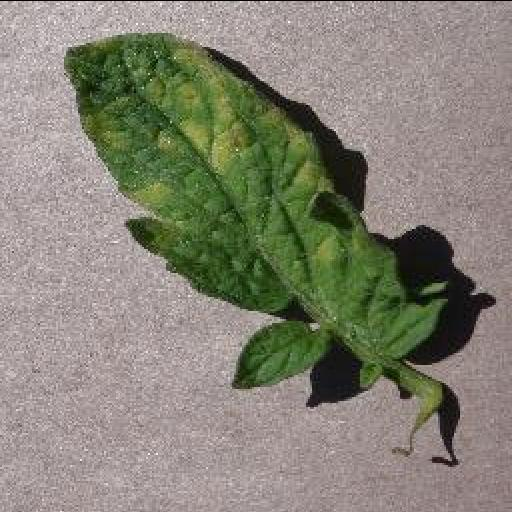disease_tomato: (62, 32, 448, 386)
